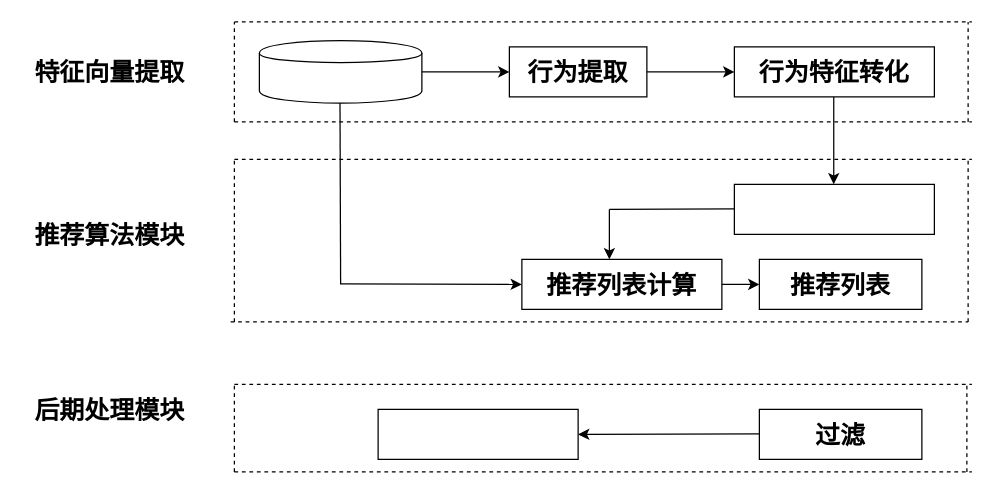
This 995x495 diagram has some shape labels left out. Here are the shapes that lost their labels. From the top down, the box of each, then its label:
(258, 39, 422, 103): 用户行为数据
(733, 183, 934, 234): 特征向量
(377, 408, 578, 459): 最终推荐结果
